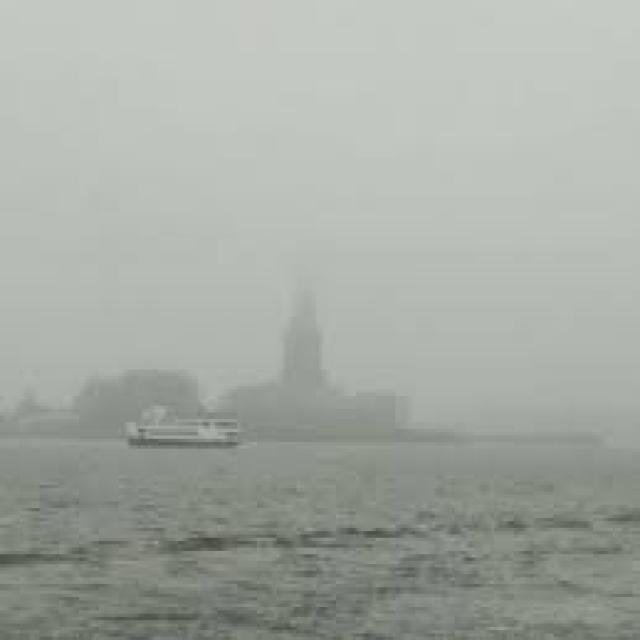passenger ship: (118, 390, 238, 442)
